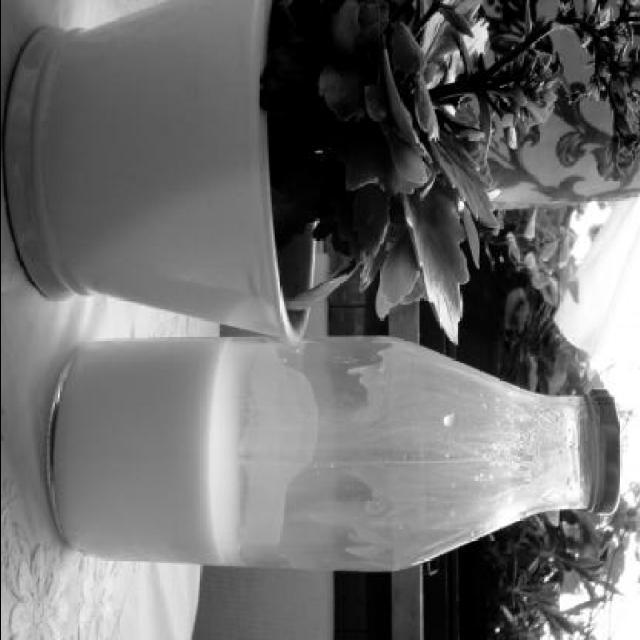Milk: (54, 336, 242, 567)
